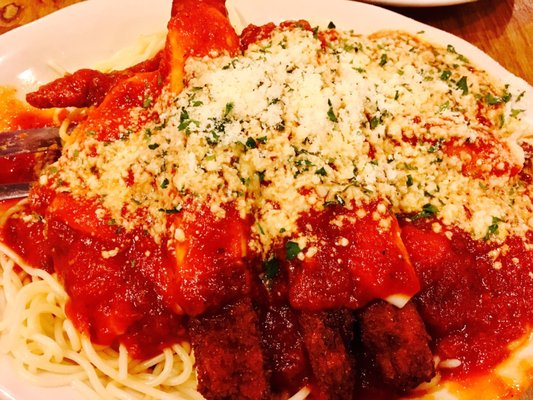sandwich: (3, 2, 531, 400)
